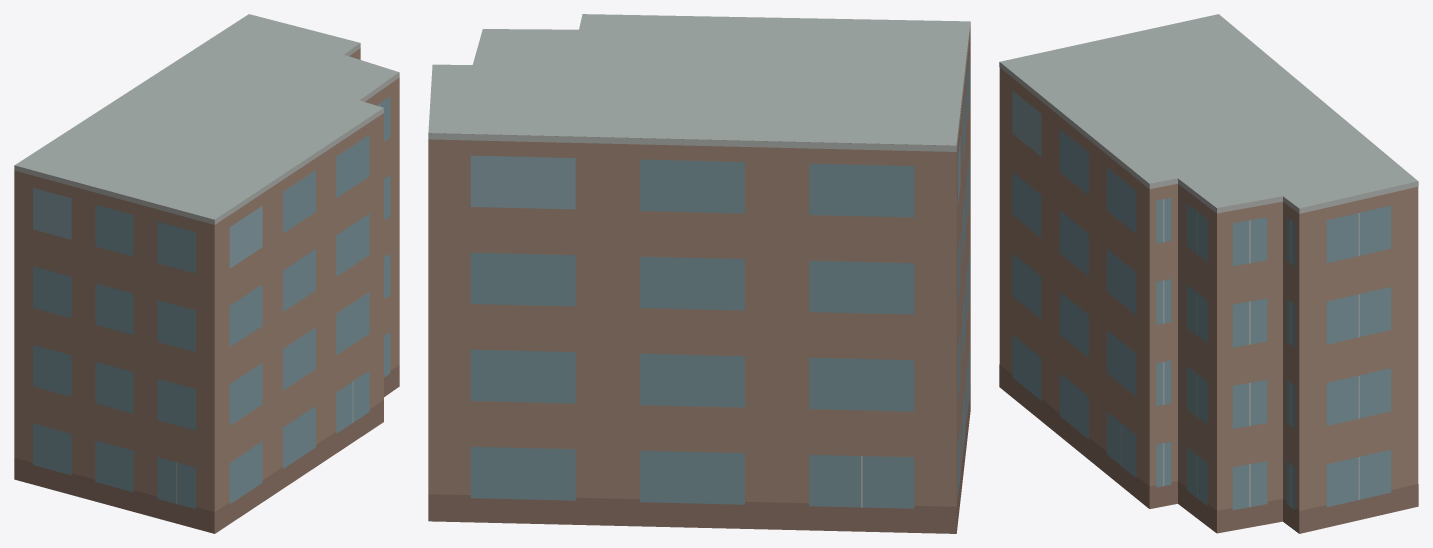
Rendered from survey-upis-32760606.glb.
3 renders of one model, left to right at view 1: azimuth 30°, elevation 25°; view 2: azimuth 150°, elevation 25°; view 3: azimuth 270°, elevation 25°, orthographic. The views are drawn at different scales.
Parts seen in each view (by area): view 1: survey-upis-32760606.tmp; view 2: survey-upis-32760606.tmp; view 3: survey-upis-32760606.tmp.
Boxes of the visible parts, x1,y1,x2,y2 form: survey-upis-32760606.tmp: (14,14,399,533); survey-upis-32760606.tmp: (428,14,970,533); survey-upis-32760606.tmp: (999,14,1418,533).
Bounding box in the file's own units: 19 × 14.8 × 17.28.
